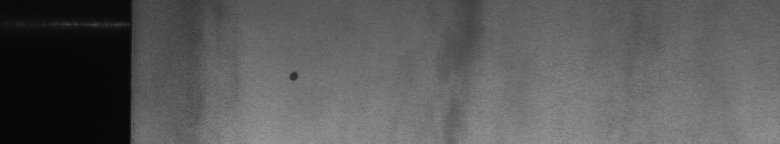fi: (284, 64, 304, 88)
